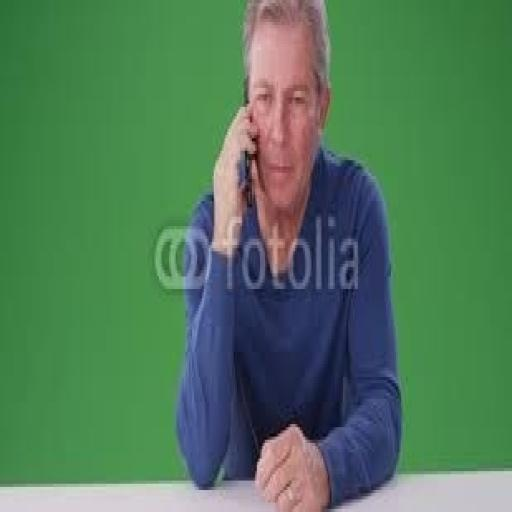calling: (174, 0, 403, 509)
